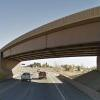Bridge: (0, 7, 96, 68)
